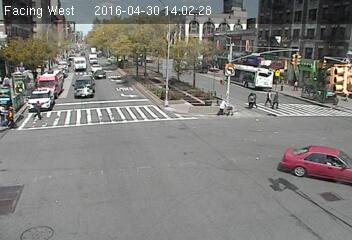neg: (138, 80, 155, 104), (85, 54, 99, 73), (132, 54, 146, 73), (44, 51, 58, 69), (159, 85, 172, 103), (117, 56, 126, 69)
pos: (211, 93, 231, 120), (27, 96, 45, 120), (268, 88, 286, 110)
